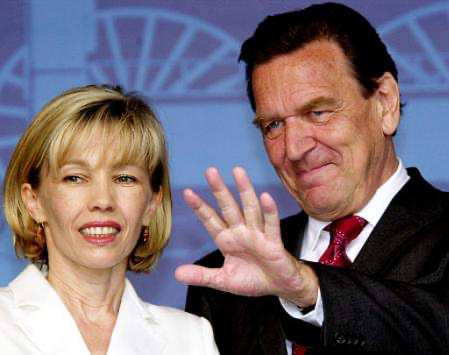Face: (248, 87, 381, 219), (42, 143, 163, 270)
